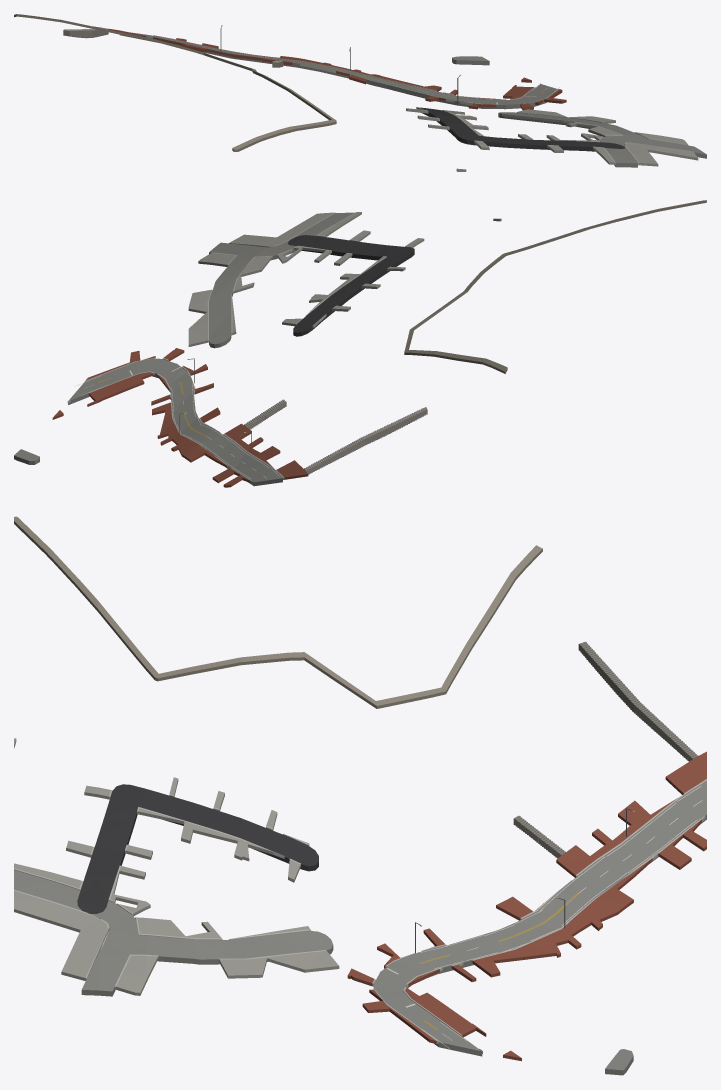
The picture shows the model from 3 angles, top to bottom: view 1: azimuth 30°, elevation 25°; view 2: azimuth 150°, elevation 25°; view 3: azimuth 270°, elevation 25°; orthographic projection. The views are drawn at different scales.
Bounding box in the file's own units: 148 × 61.38 × 146.
